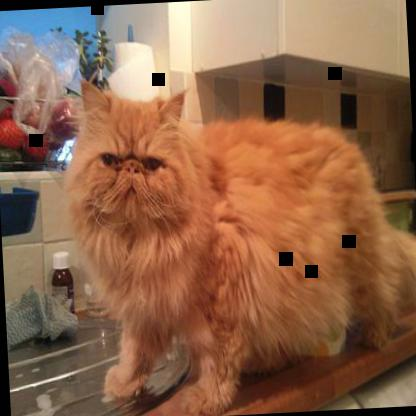cat: (57, 59, 415, 415)
